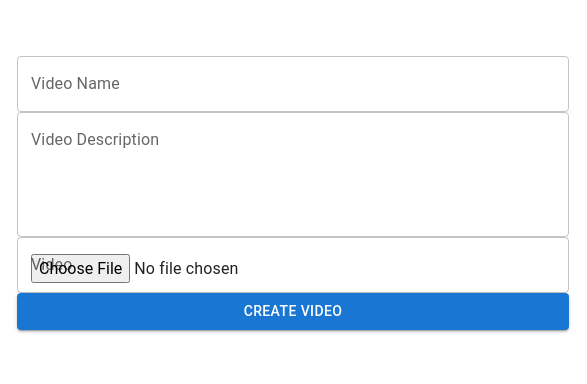
Test case: Data Verification in React Hook Form › Validation on Submit
// Simulate submitting with empty fields
Click the button "Create Video". click: (293, 312)
box: [17,293,569,330]
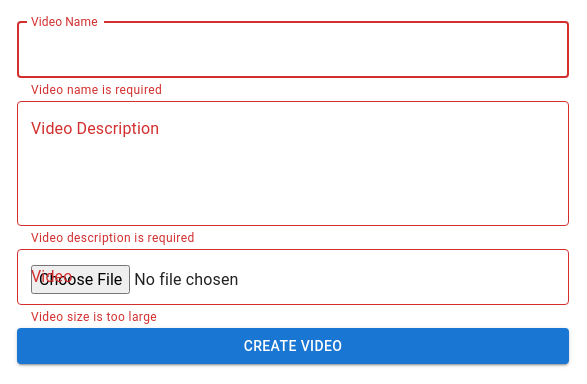
Now the text "Video name is required" is shown, box [31,83,162,97]
// Simulate filling all fields and check if error message disappears
Type "Test Name" into the field labelled "Video Name". click: (293, 50)
box: [17,22,569,78]
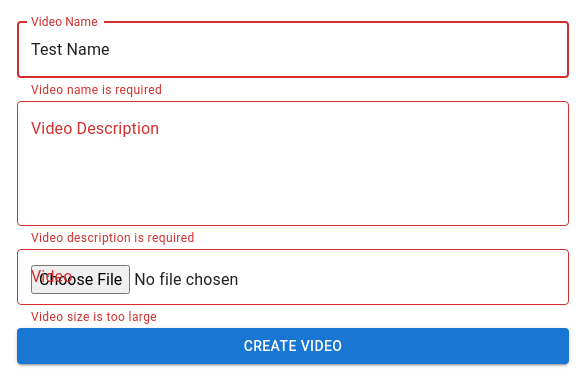
Type "Test Description" into the text box labelled "Video Description". click: (293, 163)
box: [31,117,555,209]
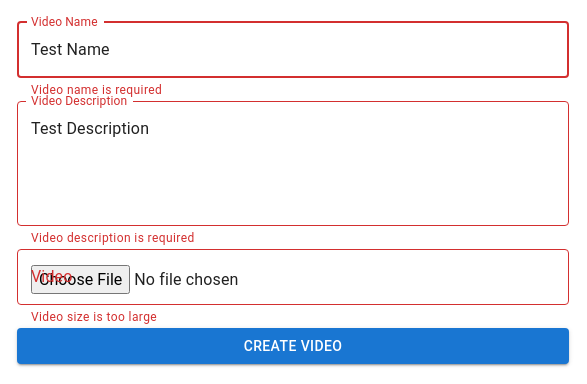
Click the button "Create Video". click: (293, 346)
box: [17,328,569,364]
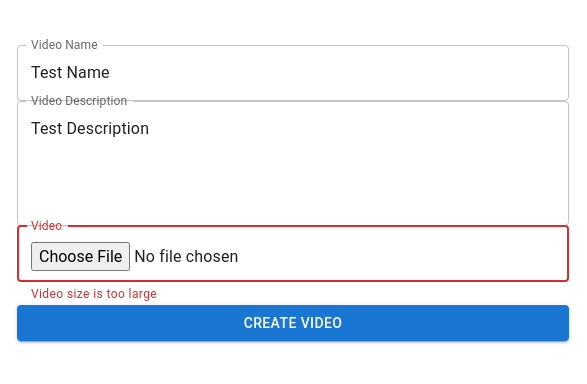
Now the text "Video name is required" is gone
